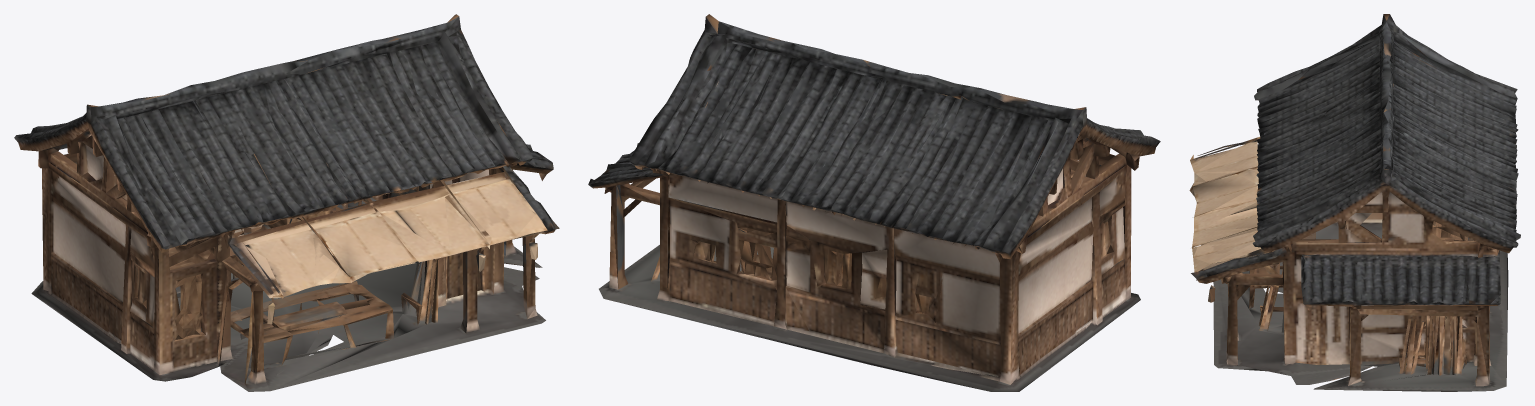
File: 11_Carpenter_Workshop_LOD2.fbx
3 renders of one model, left to right at view 1: azimuth 30°, elevation 25°; view 2: azimuth 150°, elevation 25°; view 3: azimuth 270°, elevation 25°, orthographic. The views are drawn at different scales.
Visible parts, largest first — view 1: 11_Carpenter_Workshop_L2; view 2: 11_Carpenter_Workshop_L2; view 3: 11_Carpenter_Workshop_L2.
Part boxes in pixels (<box>): 11_Carpenter_Workshop_L2: <box>14,14,559,391</box>; 11_Carpenter_Workshop_L2: <box>588,14,1160,391</box>; 11_Carpenter_Workshop_L2: <box>1189,14,1520,391</box>.
Size of the model in its own units: 11.31 by 6 by 8.84.
